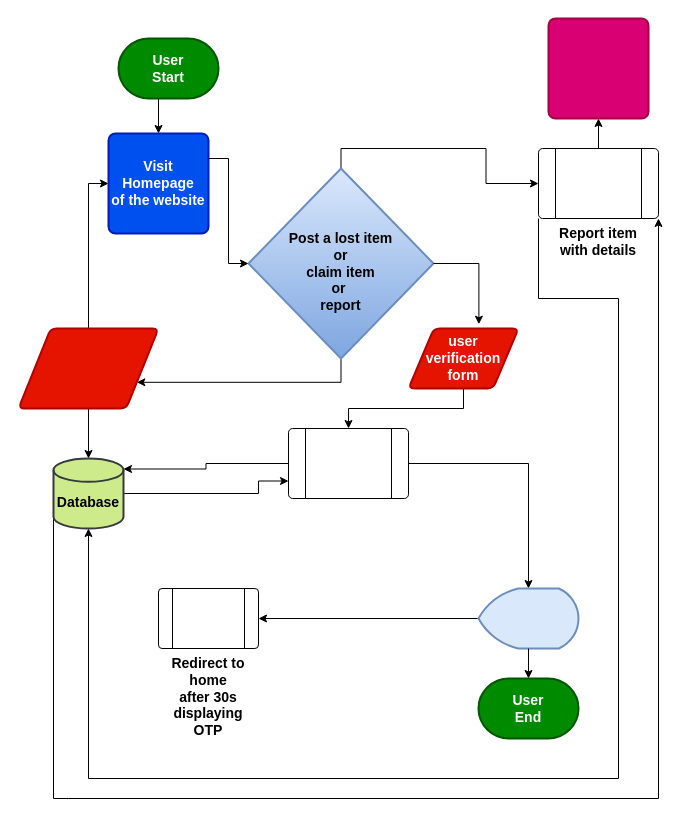
This 684x824 diagram has some shape labels left out. Here are the shapes that lost their labels. From the top down, the box of each, then its label:
(547, 17, 649, 119): Report to admin
(17, 327, 159, 409): Post details set questions of lost item
(288, 428, 408, 498): Predefined verification with student id and set questions
(477, 587, 579, 649): Display OTP
